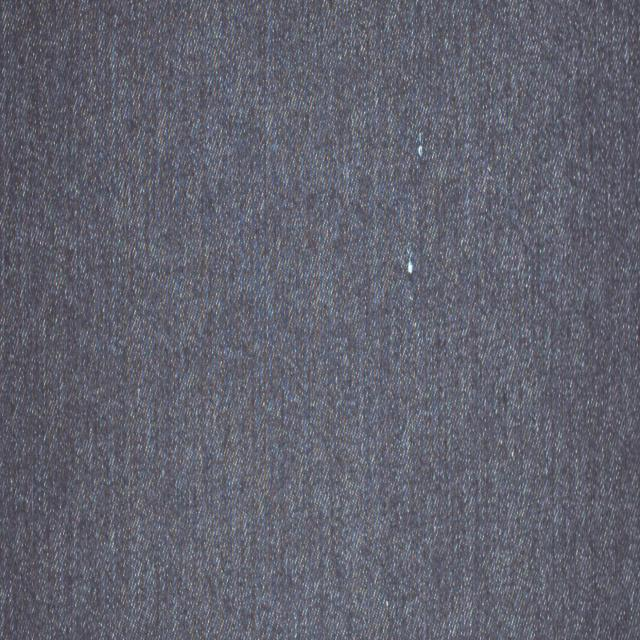Knot: (406, 250, 415, 275)
